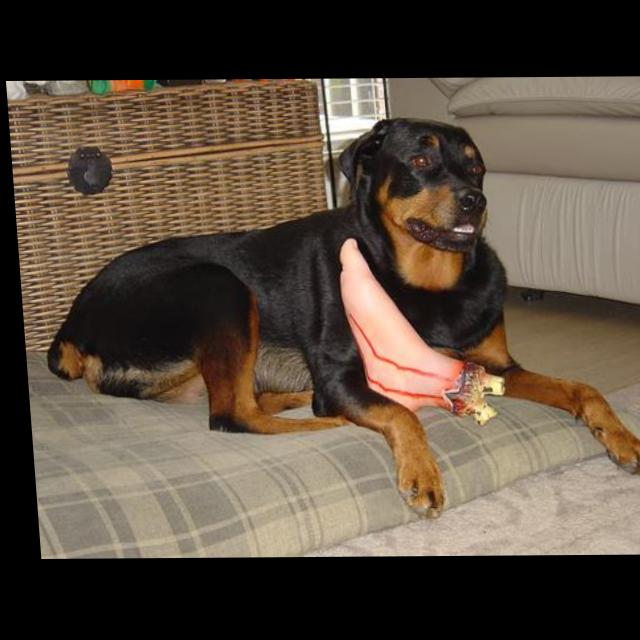rottweiler: (27, 116, 640, 524)
